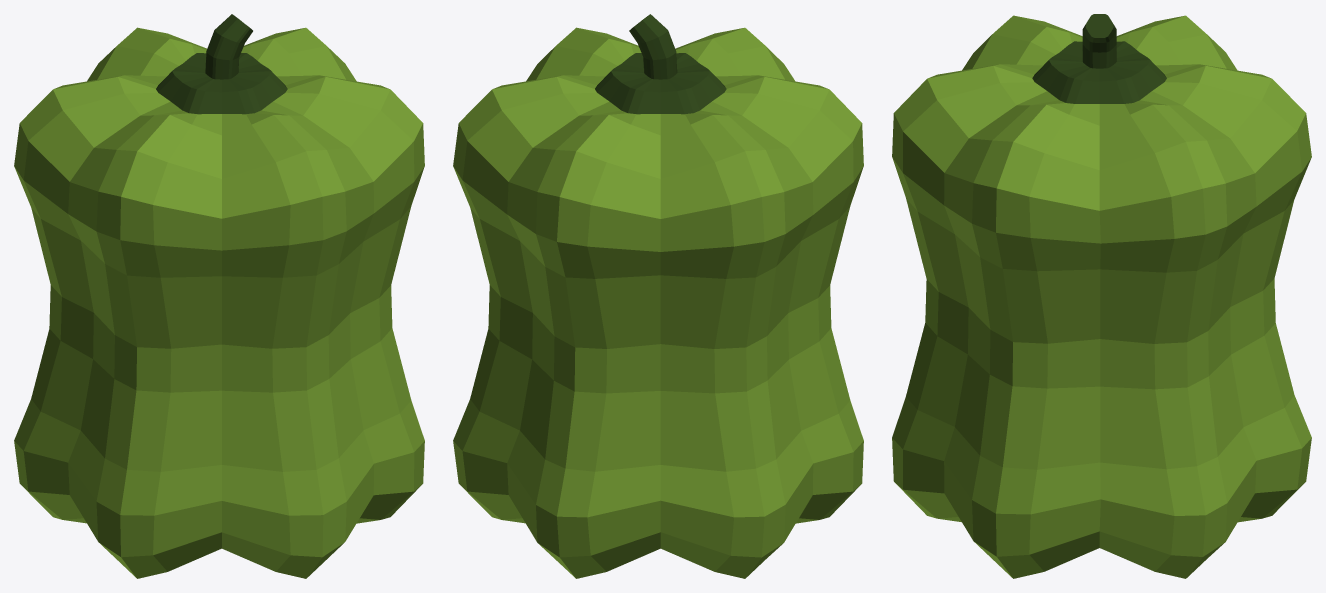
File: bell_pepper_green.glb
3 views of the same model, side by side, from view 1: azimuth 30°, elevation 25°; view 2: azimuth 150°, elevation 25°; view 3: azimuth 270°, elevation 25° (orthographic). The views are drawn at different scales.
Parts seen in each view (by area): view 1: bell_pepper_green; view 2: bell_pepper_green; view 3: bell_pepper_green.
Part boxes in pixels (x1=…): bell_pepper_green: x1=14, y1=14, x2=424, y2=578; bell_pepper_green: x1=453, y1=14, x2=863, y2=578; bell_pepper_green: x1=892, y1=14, x2=1311, y2=578.
Bounding box in the file's own units: 0.8257 × 1.24 × 0.9104.
1 material, 1 textured.
